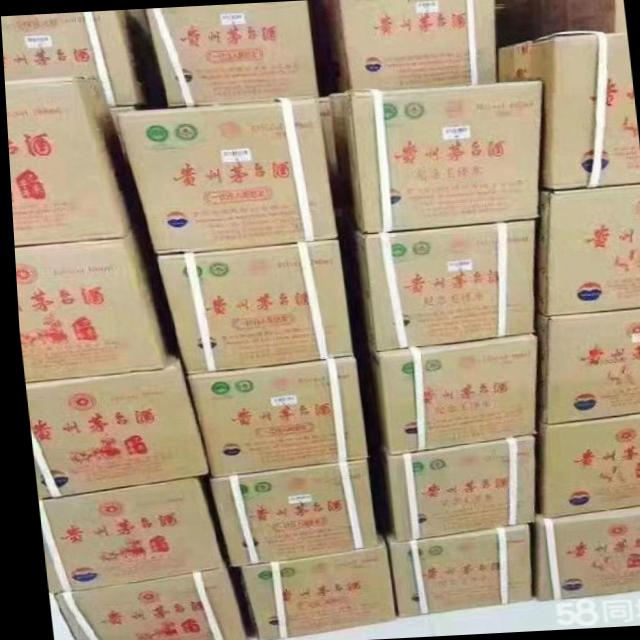box: (317, 80, 541, 235), (115, 98, 336, 254), (21, 336, 203, 498), (335, 215, 534, 351), (151, 240, 352, 373), (12, 223, 168, 381), (4, 74, 142, 244), (497, 32, 640, 190), (347, 332, 532, 454), (32, 476, 217, 595), (183, 359, 364, 477), (358, 431, 530, 541), (200, 461, 374, 568), (308, 0, 497, 95), (146, 3, 315, 108), (1, 11, 165, 107), (230, 545, 390, 640), (531, 181, 640, 317), (42, 569, 238, 640), (379, 523, 525, 617), (529, 308, 640, 425), (531, 413, 640, 519), (526, 505, 640, 601), (507, 0, 625, 45)
